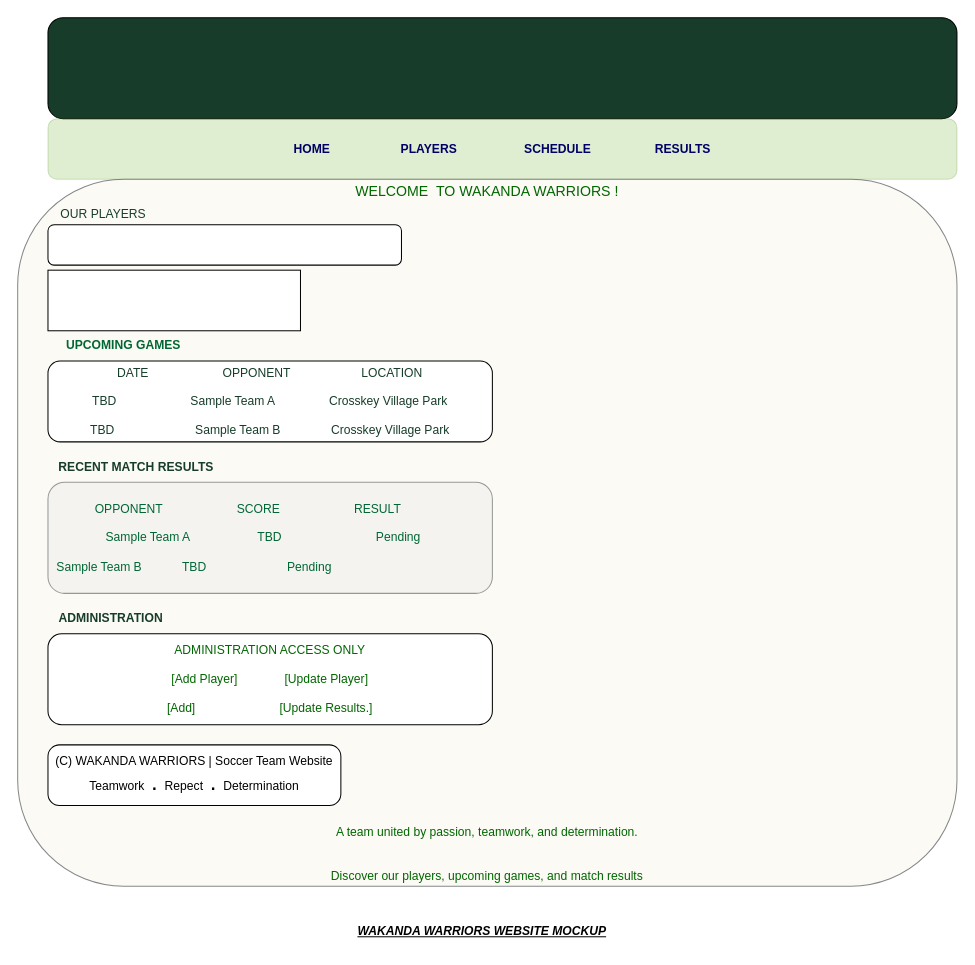
This 975x965 diagram has some shape labels left out. The centre of each missing label's shape, as x and y in pixels:
"PLAYER 1 #10 Forward PLAYER 2 #7 Midfielder PLAYER 3 #1 Goalkeeper" goes at [173,300].
"Search player by name..." goes at [224,244].
"WAKANDA WARRIORS SOCCER TEAM" goes at [502,68].
